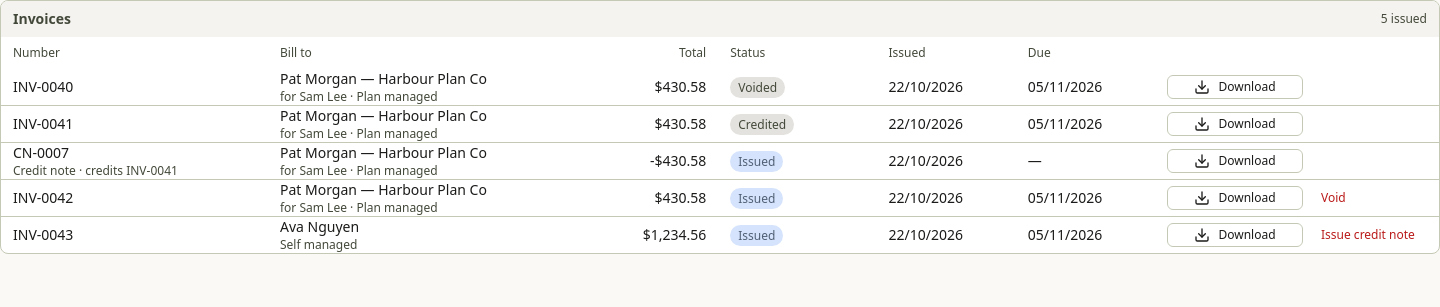
InvoicesSection › a refusal the server gave no words for says which file failed
Step 1. Click the button with aria-label "Download INV-0042" → (1235, 198), box [1167, 186, 1303, 210]
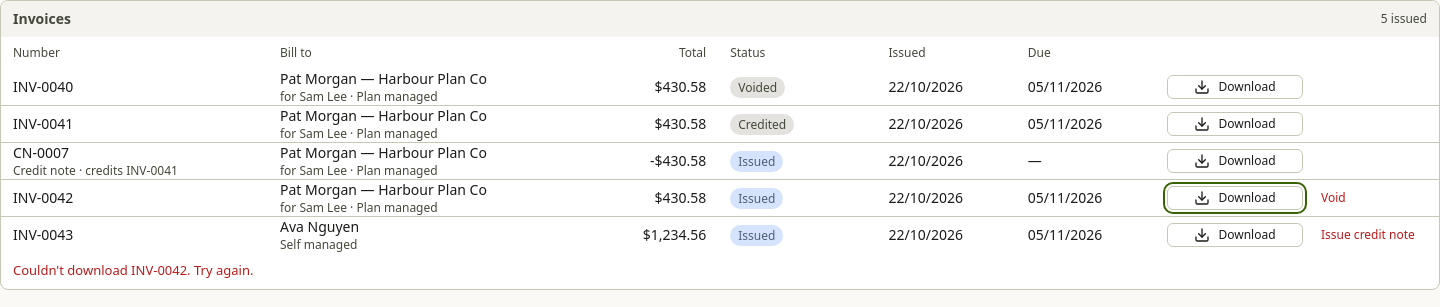
Check: the message reads "Couldn't download INV-0042. Try again.", box [13, 261, 253, 279]
